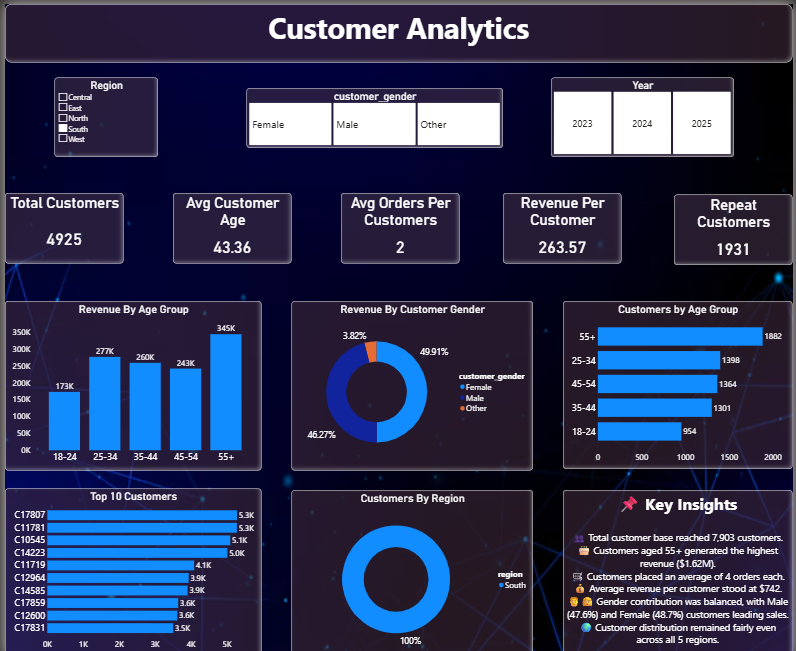

The page's visual inventory and layout, read from the dashboard file:
{"tool":"powerbi","page":{"name":"Page 2","canvas":[3500,2900],"ordinal":1},"visuals":[{"type":"textbox","box":[0,0,3500,260],"z":0},{"type":"textbox","box":[2480,2160,1020,740],"z":1},{"type":"clusteredColumnChart","title":"Revenue By Age Group","fields":{"Y":["ecommerce.Total revenue"],"Category":["ecommerce.Age Group"]},"box":[0,1320,1140,753.3],"z":2},{"type":"donutChart","title":"Revenue By Customer Gender","fields":{"Y":["ecommerce.Total revenue"],"Category":["ecommerce.customer_gender"]},"box":[1273.3,1320,1073.3,753.3],"z":3},{"type":"clusteredBarChart","title":" Customers by Age Group","fields":{"Category":["ecommerce.Age Group"],"Y":["ecommerce.total customers"]},"box":[2480,1320,1020,746.7],"z":4},{"type":"donutChart","title":"Customers By Region","fields":{"Category":["ecommerce.region"],"Y":["ecommerce.total customers"]},"box":[1273.3,2160,1073.3,740],"z":5},{"type":"clusteredBarChart","title":"Top 10 Customers ","fields":{"Category":["ecommerce.customer_id"],"Y":["ecommerce.Total revenue"]},"box":[0,2153.3,1140,746.7],"z":6},{"type":"card","title":"Total Customers","fields":{"Values":["ecommerce.total customers"]},"box":[0,840,526.7,313.3],"z":7},{"type":"card","title":"Avg Customer Age","fields":{"Values":["ecommerce.Average Customer Age"]},"box":[746.7,840,526.7,313.3],"z":8},{"type":"card","title":"Avg Orders Per Customers","fields":{"Values":["ecommerce.Average Orders per Customer"]},"box":[1493.3,840,526.7,313.3],"z":9},{"type":"card","title":"Revenue Per Customer ","fields":{"Values":["ecommerce.Revenue per Customer"]},"box":[2213.3,840,526.7,313.3],"z":10},{"type":"card","title":"Repeat Customers","fields":{"Values":["ecommerce.Customer Regions"]},"box":[2973.3,846.7,526.7,313.3],"z":11},{"type":"slicer","title":"Region","fields":{"Values":["ecommerce.region"]},"box":[220,326.7,460,353.3],"z":12},{"type":"advancedSlicerVisual","fields":{"Values":["ecommerce.customer_gender"]},"box":[1073.3,373.3,1140,266.7],"z":13},{"type":"advancedSlicerVisual","title":"Year","fields":{"Values":["ecommerce.order_date.Variation.Date Hierarchy.Year"]},"box":[2426.7,326.7,813.3,353.3],"z":14}]}

Visuals, with their boxes in screenshot pixels (x1, y1, x2, y2), scaled from the page's 3500x2900 canvas onto the 796x651 screenshot:
textbox: 0, 0, 795, 58
textbox: 564, 485, 795, 650
"Revenue By Age Group" clusteredColumnChart: 0, 296, 259, 465
"Revenue By Customer Gender" donutChart: 290, 296, 534, 465
" Customers by Age Group" clusteredBarChart: 564, 296, 795, 464
"Customers By Region" donutChart: 290, 485, 534, 650
"Top 10 Customers " clusteredBarChart: 0, 483, 259, 650
"Total Customers" card: 0, 189, 120, 259
"Avg Customer Age" card: 170, 189, 290, 259
"Avg Orders Per Customers" card: 340, 189, 459, 259
"Revenue Per Customer " card: 503, 189, 623, 259
"Repeat Customers" card: 676, 190, 795, 260
"Region" slicer: 50, 73, 155, 153
advancedSlicerVisual - ecommerce.customer_gender: 244, 84, 503, 144
"Year" advancedSlicerVisual: 552, 73, 737, 153
